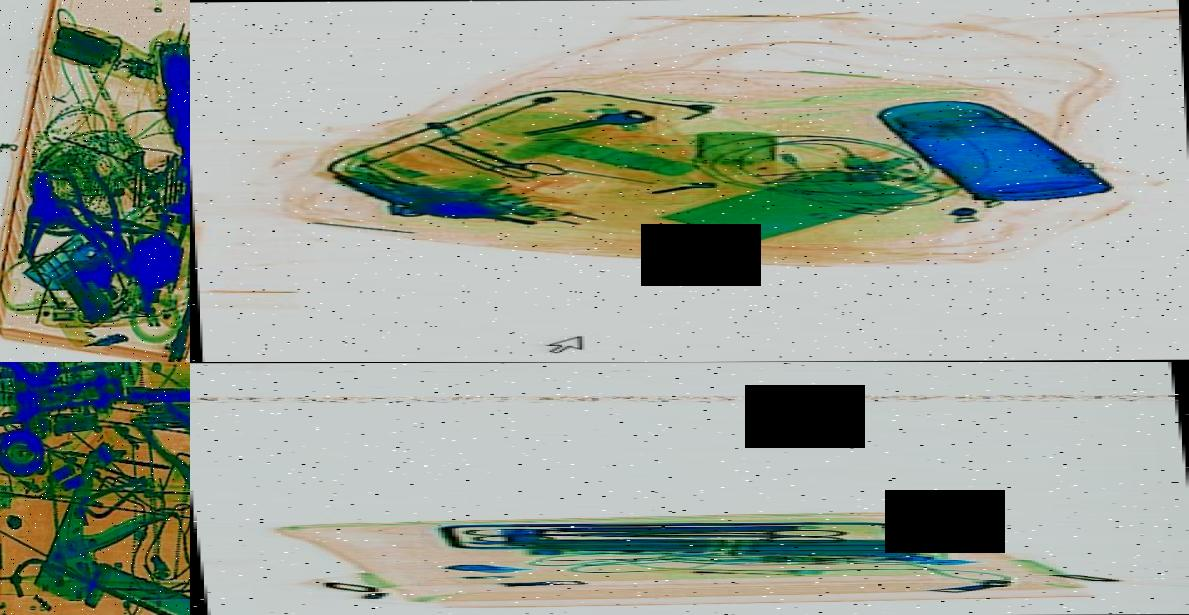Pliers: (113, 394, 190, 554), (64, 146, 138, 274), (30, 189, 163, 251)
Scissors: (426, 132, 581, 186), (466, 525, 703, 542), (644, 528, 857, 543)
